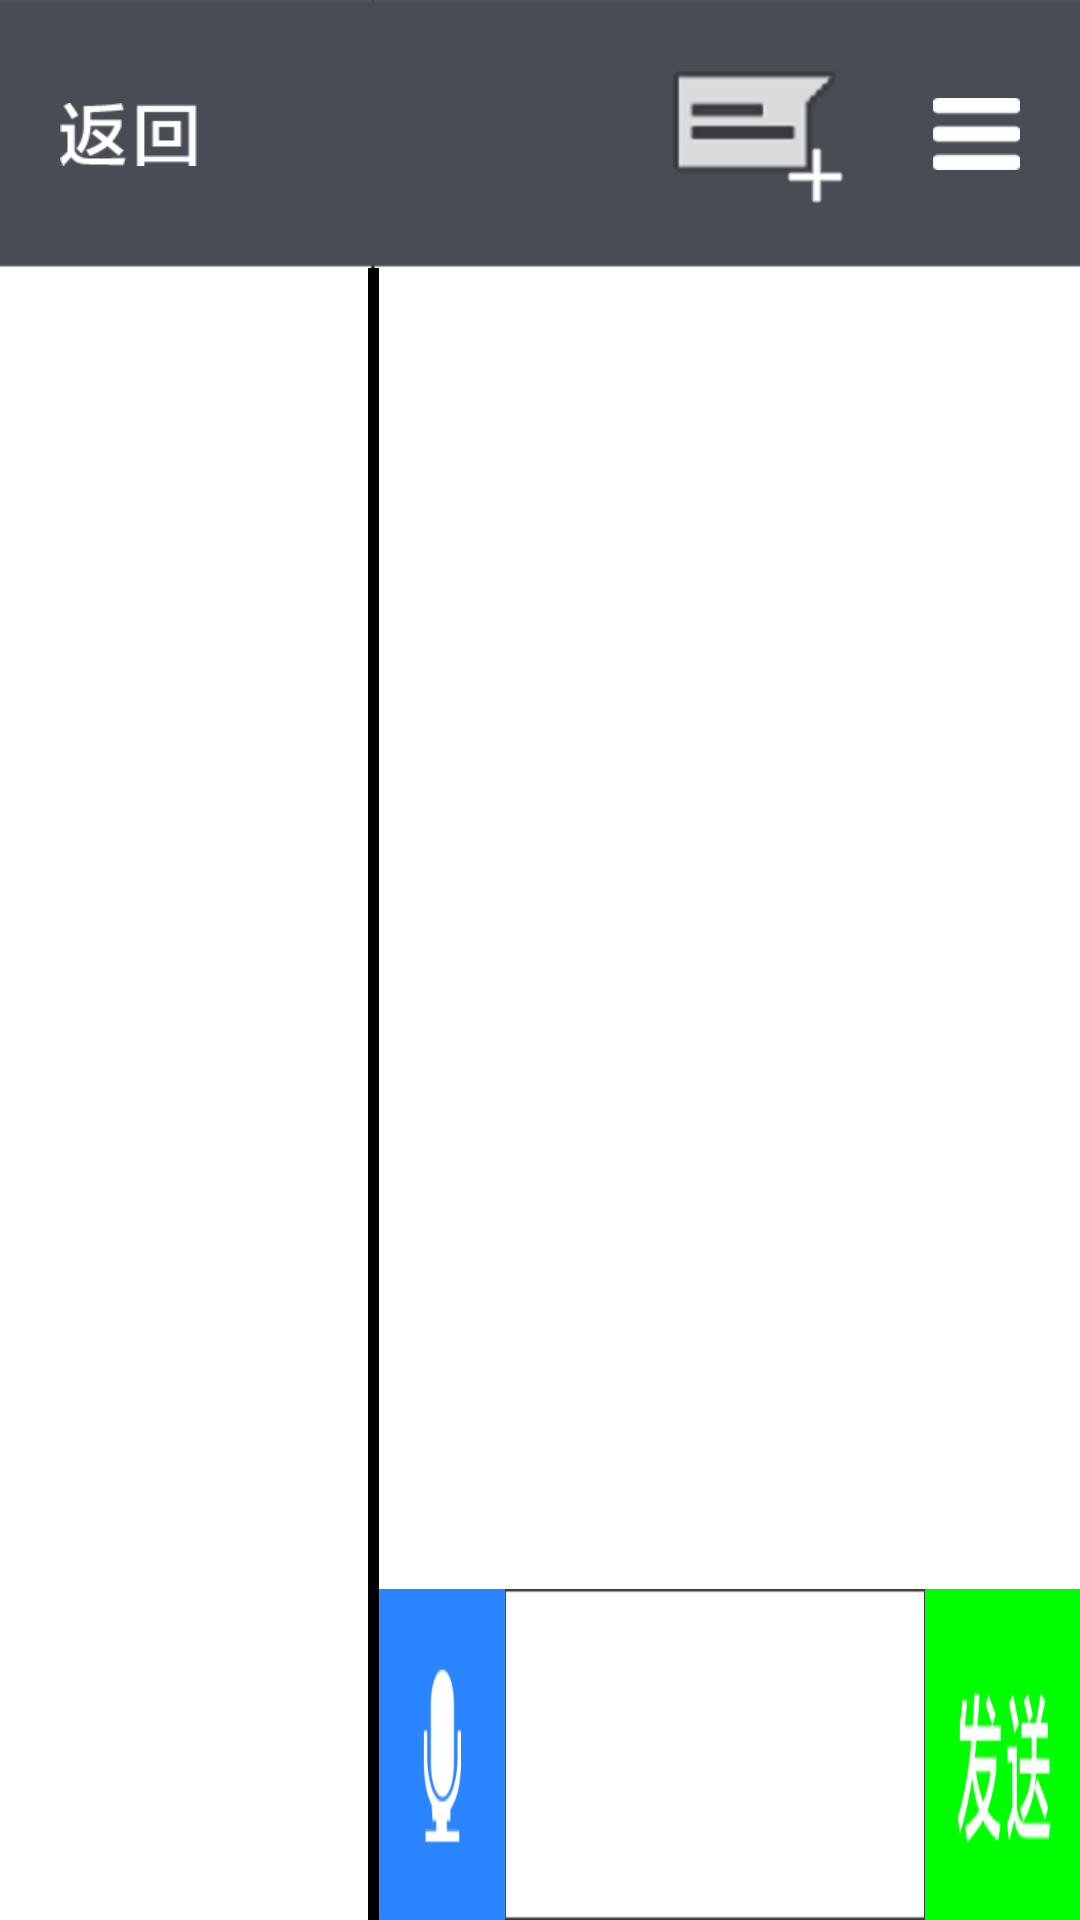

Screen size 1080w x 1920h. Icon name, then its center in pixels as (x,y):
message add: (759,139)
voice: (442,1754)
